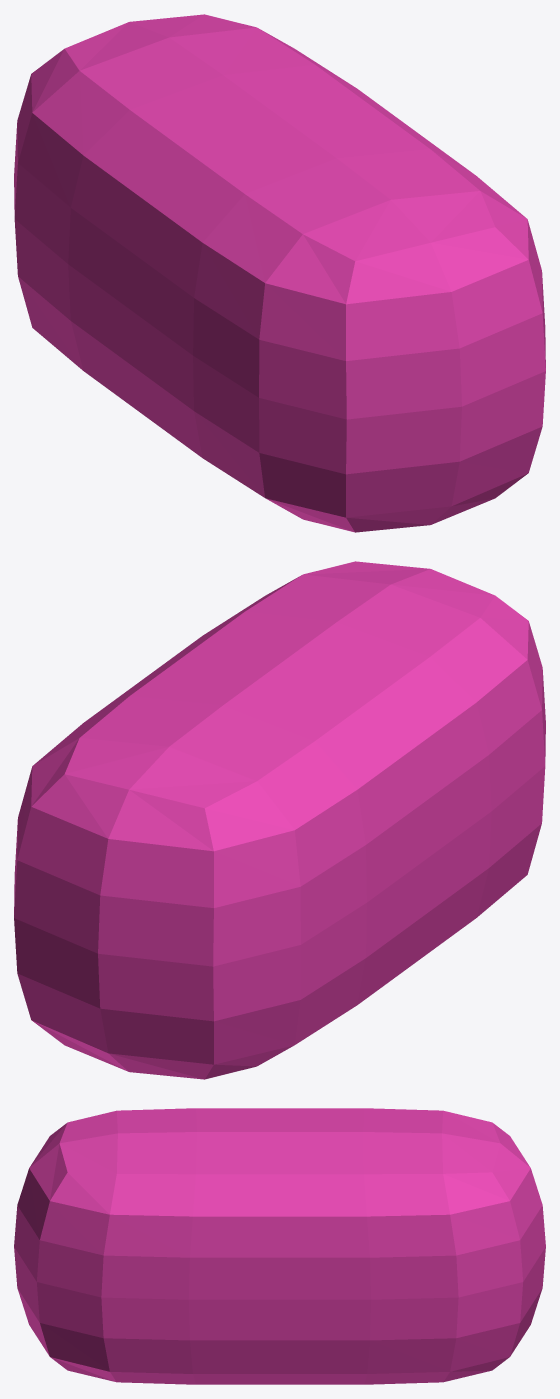
3 views of the same model, one above another, from view 1: azimuth 30°, elevation 25°; view 2: azimuth 150°, elevation 25°; view 3: azimuth 270°, elevation 25° (orthographic). The views are drawn at different scales.
Bounding box in the file's own units: 0.4417 × 0.4429 × 0.9322.
